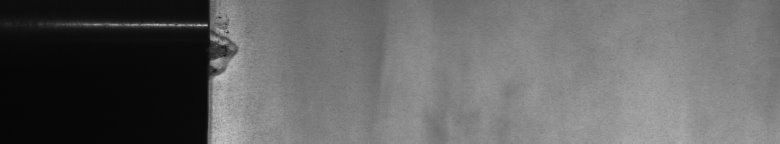hb: (220, 16, 243, 80)
